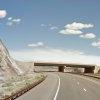Bridge: (34, 56, 95, 71)
